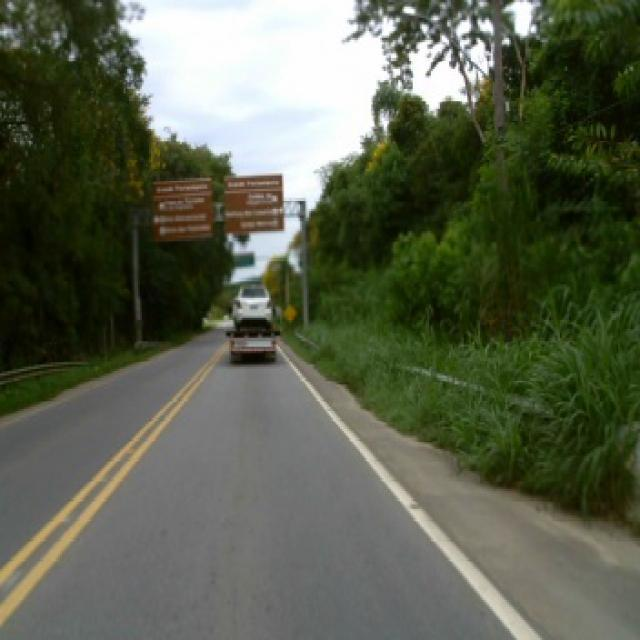Poth-hole: (124, 444, 134, 454), (407, 500, 420, 507)
